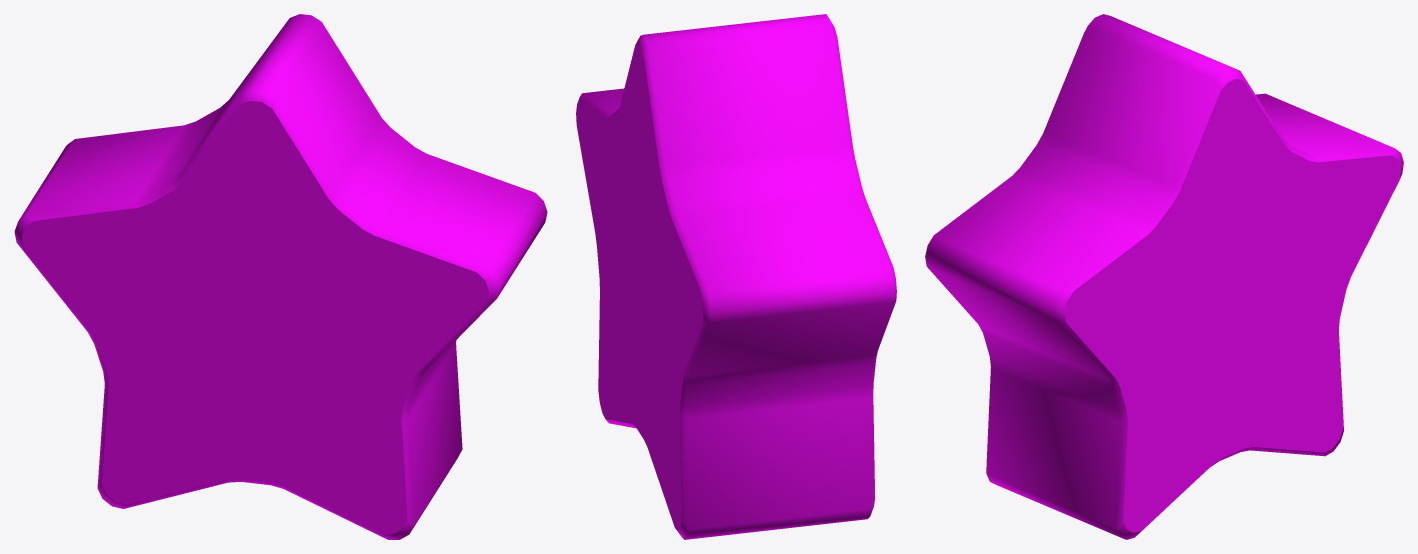
File: 005-Fork2.FBX
The picture shows the model from 3 angles, left to right: view 1: azimuth 30°, elevation 25°; view 2: azimuth 150°, elevation 25°; view 3: azimuth 270°, elevation 25°; orthographic projection. The views are drawn at different scales.
Parts seen in each view (by area): view 1: 005-Fork2; view 2: 005-Fork2; view 3: 005-Fork2.
Boxes of the visible parts, x1,y1,x2,y2 form: 005-Fork2: (14, 14, 547, 539); 005-Fork2: (576, 14, 896, 539); 005-Fork2: (925, 14, 1403, 539).
Bounding box in the file's own units: 40.18 × 39.58 × 40.18.
